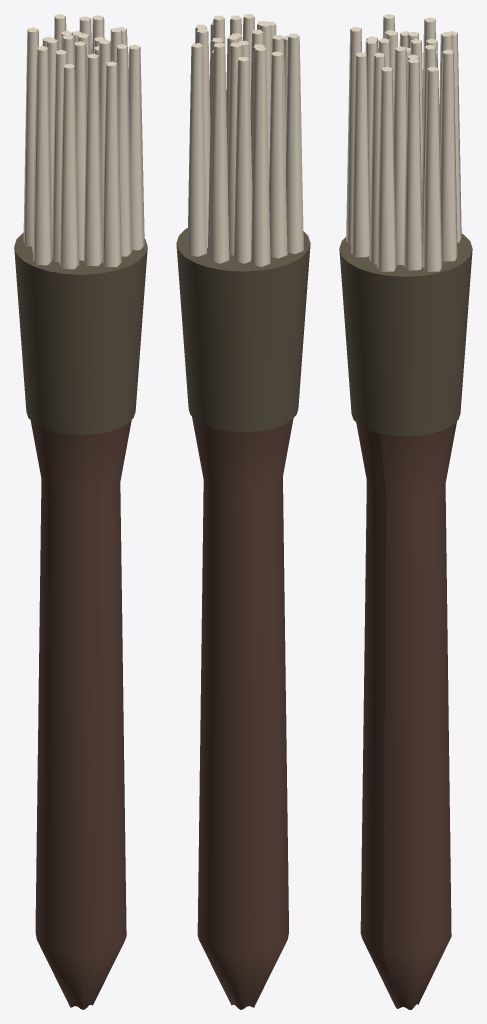
File: soft-brush-v2.glb
The picture shows the model from 3 angles, left to right: view 1: azimuth 30°, elevation 25°; view 2: azimuth 150°, elevation 25°; view 3: azimuth 330°, elevation 25°; orthographic projection.
Parts seen in each view (by area): view 1: Turned wooden handle, Individual bristle tuft (×11), Brush ferrule; view 2: Turned wooden handle, Individual bristle tuft (×14), Brush ferrule; view 3: Turned wooden handle, Individual bristle tuft (×15), Brush ferrule.
Part boxes in pixels (x1,y1,x2,y2): Turned wooden handle: [30, 420, 131, 1009]; Individual bristle tuft (×11): [23, 27, 144, 269]; Brush ferrule: [14, 232, 147, 434]; Turned wooden handle: [192, 417, 293, 1009]; Individual bristle tuft (×14): [187, 14, 303, 266]; Brush ferrule: [176, 228, 310, 432]; Turned wooden handle: [356, 421, 456, 1009]; Individual bristle tuft (×15): [346, 17, 461, 271]; Brush ferrule: [339, 234, 472, 436].
Size of the model in its own units: 0.044 by 0.3532 by 0.044.
